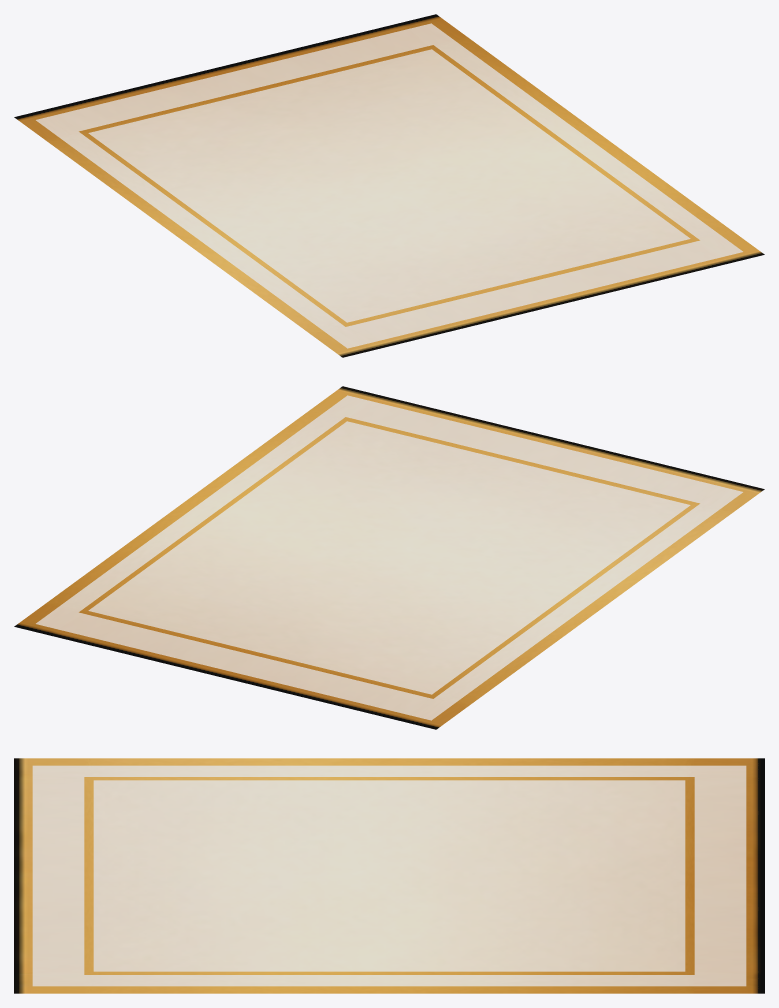
The model's file is SM_flated_pillar_rug_03.fbx.
The picture shows the model from 3 angles, top to bottom: view 1: azimuth 30°, elevation 25°; view 2: azimuth 150°, elevation 25°; view 3: azimuth 270°, elevation 25°; orthographic projection. The views are drawn at different scales.
Parts seen in each view (by area): view 1: SM_flated_pillar_rug_03; view 2: SM_flated_pillar_rug_03; view 3: SM_flated_pillar_rug_03.
Boxes of the visible parts, bbox=[...] form: SM_flated_pillar_rug_03: bbox=[14, 14, 764, 357]; SM_flated_pillar_rug_03: bbox=[14, 386, 764, 729]; SM_flated_pillar_rug_03: bbox=[14, 758, 764, 993].
Size of the model in its own units: 2.96 by 0 by 3.99.
